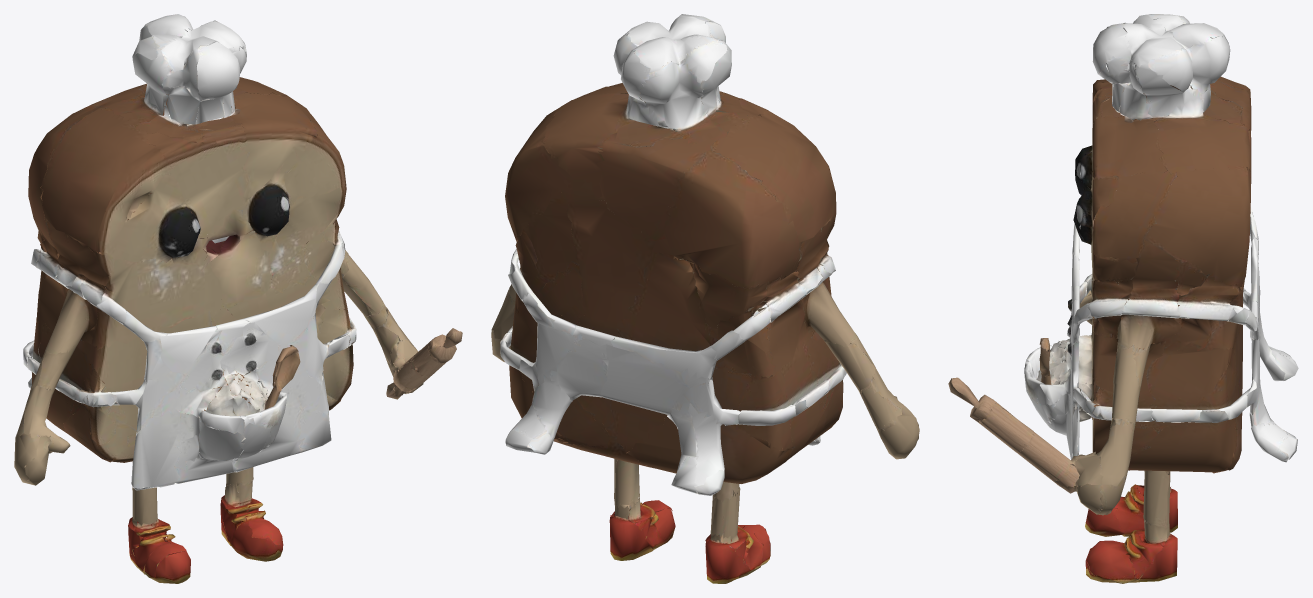
Rendered from tiny-baker.glb.
3 renders of one model, left to right at view 1: azimuth 30°, elevation 25°; view 2: azimuth 150°, elevation 25°; view 3: azimuth 270°, elevation 25°, orthographic. The views are drawn at different scales.
Visible parts, largest first — view 1: Mesh_0; view 2: Mesh_0; view 3: Mesh_0.
Part boxes in pixels (box(x1,y1,x2,y2)): Mesh_0: box(14, 14, 462, 583); Mesh_0: box(491, 14, 919, 583); Mesh_0: box(948, 14, 1298, 583).
Bounding box in the file's own units: 1.56 × 1.9 × 1.15.
1 material, 1 textured.
